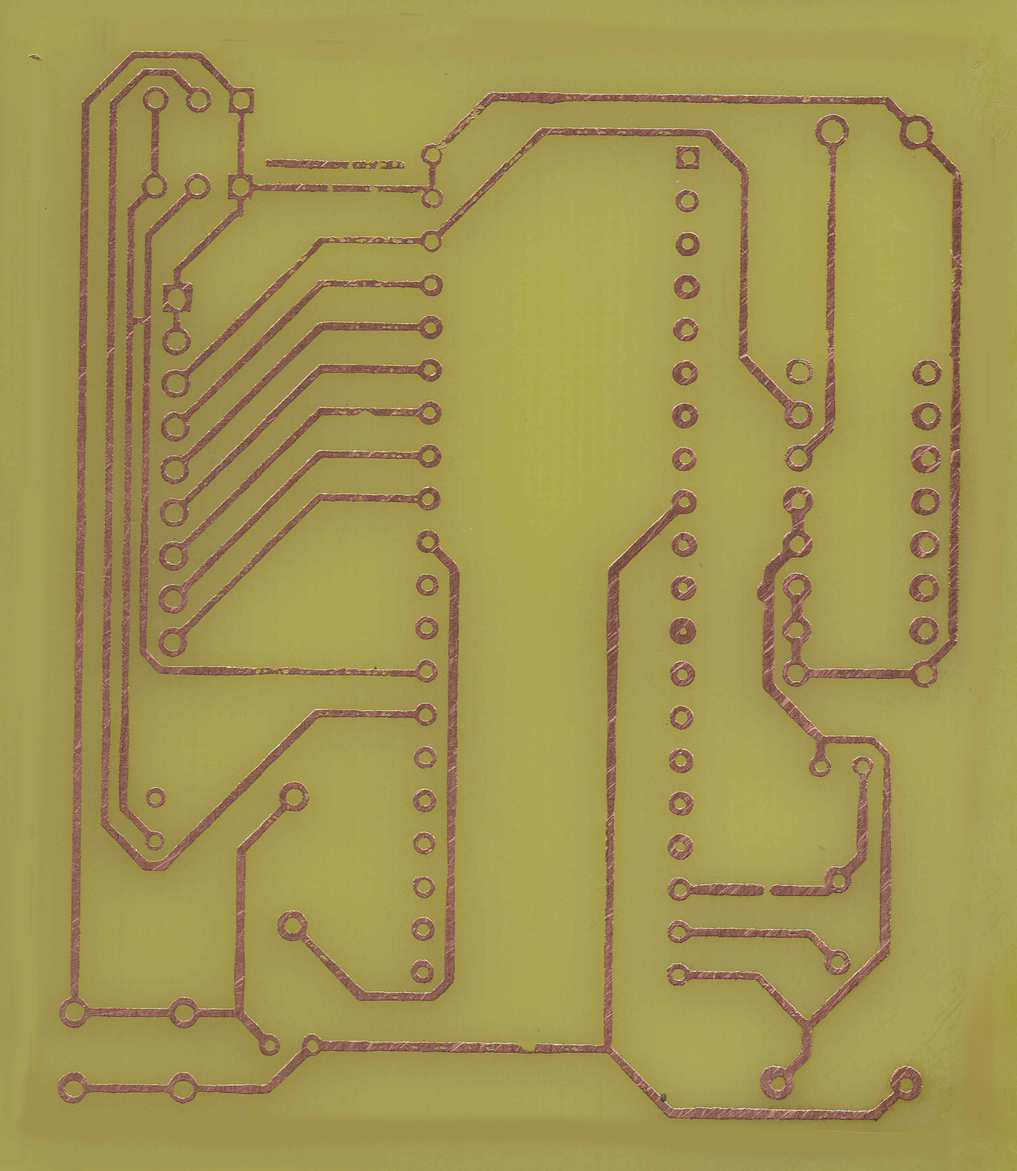mouse_bite: (510, 1037, 545, 1056), (461, 100, 484, 122), (353, 405, 376, 420), (367, 156, 389, 170), (435, 140, 450, 151)
open_circuit: (754, 879, 783, 902), (366, 182, 385, 195), (321, 181, 337, 195)
short: (124, 309, 154, 329), (342, 155, 357, 172)
spur: (755, 575, 779, 607)
spurious_copper: (261, 153, 407, 175)
